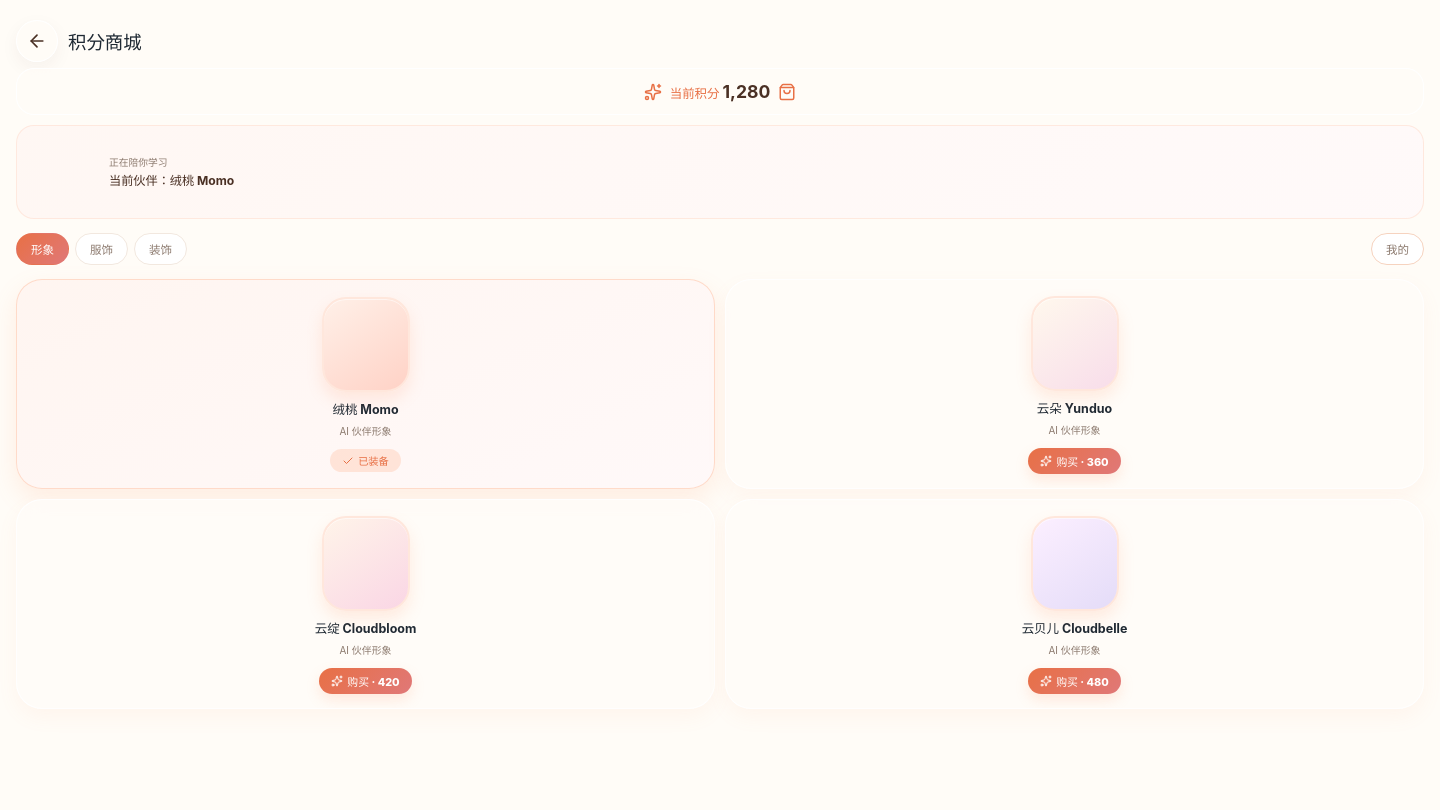
Test: points mall companion catalogue › buys a 装饰 directly from its card and deducts the correct points
Click the tab "装饰". click: [161, 249]
box: x1=134 y1=233 x2=187 y2=265
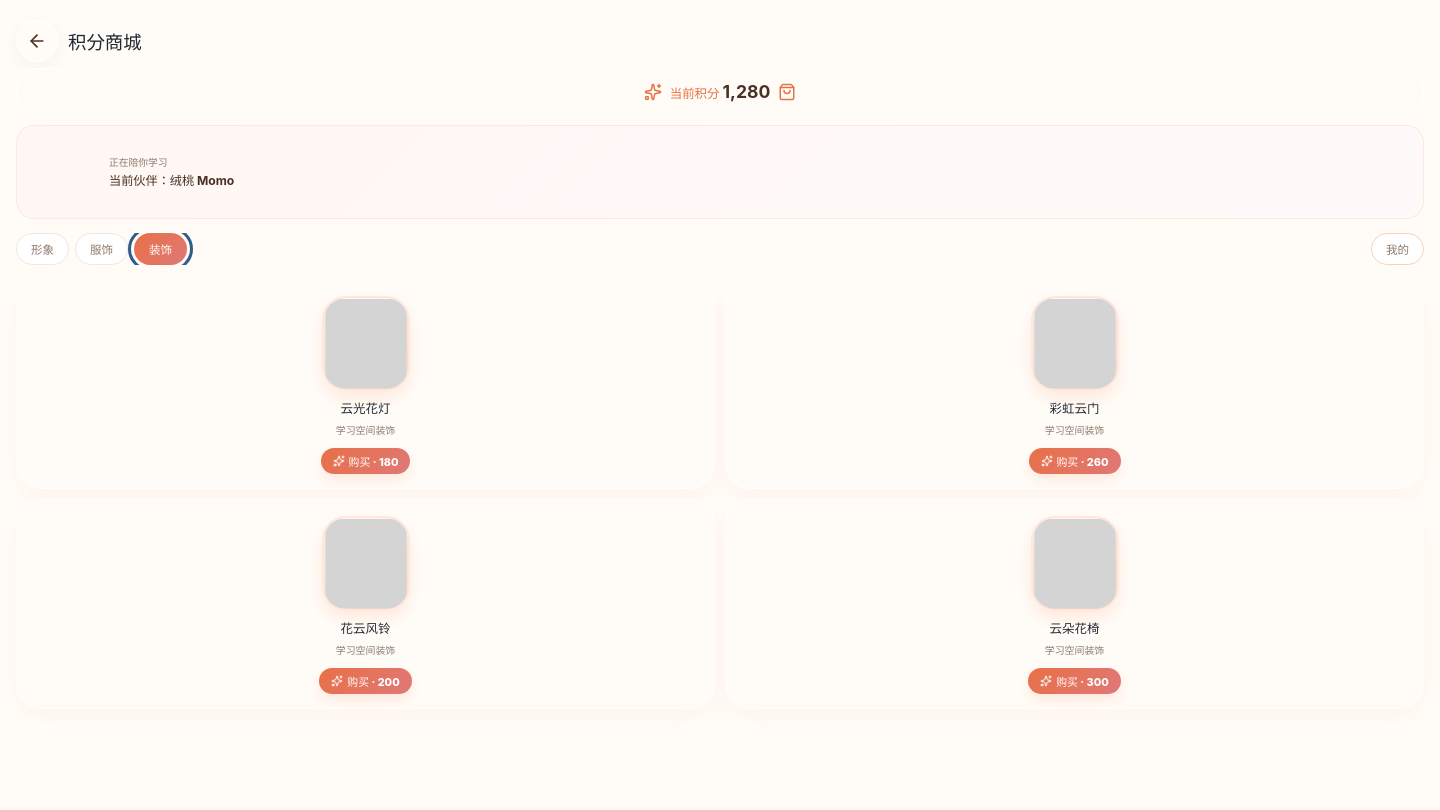
Click the button with aria-label "购买 云光花灯，180 积分". click: [365, 461]
box: x1=320 y1=448 x2=410 y2=474
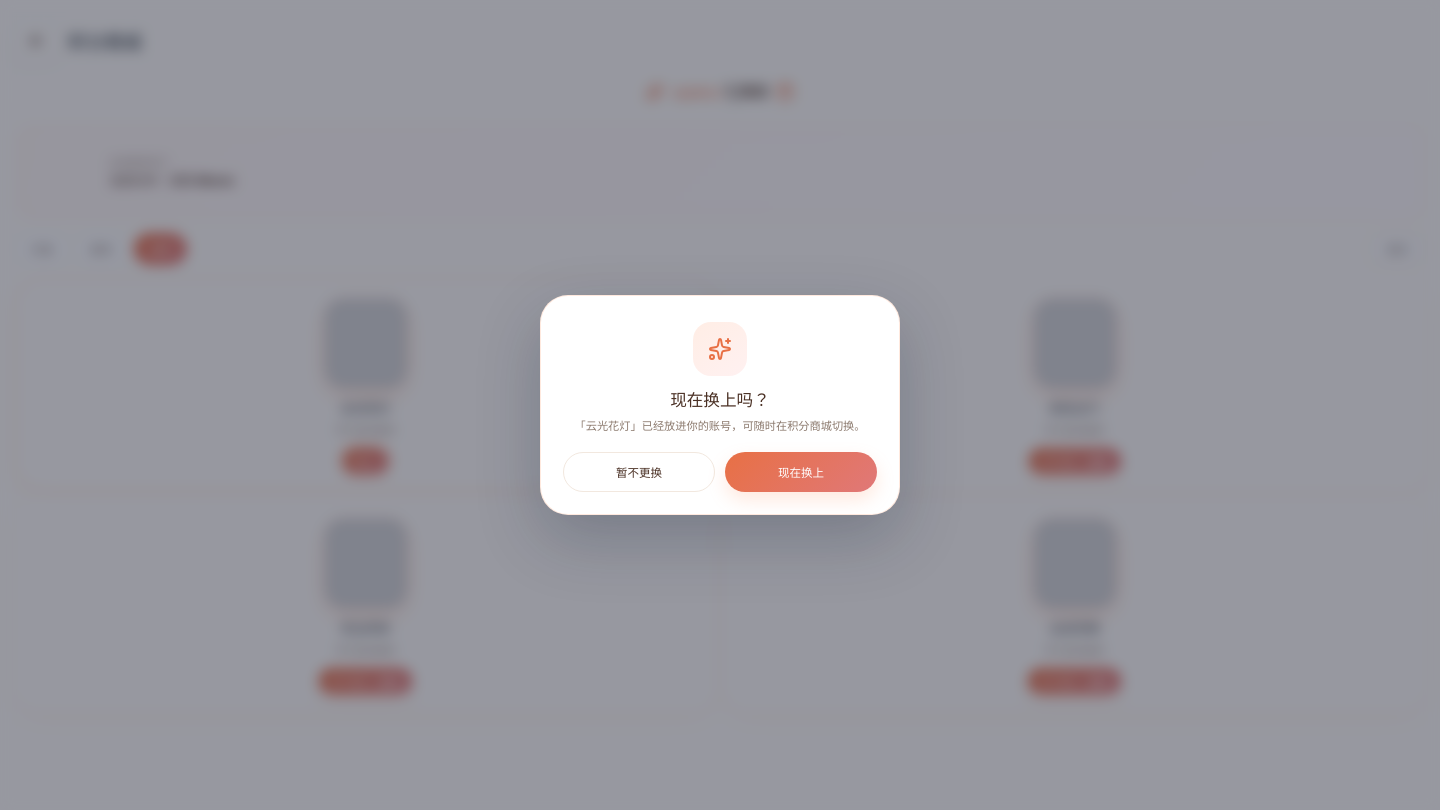
Expected: the dialog "现在换上吗？" is shown, x1=540 y1=295 x2=900 y2=515
Expected: the text "1,100" is shown, x1=725 y1=81 x2=768 y2=102
